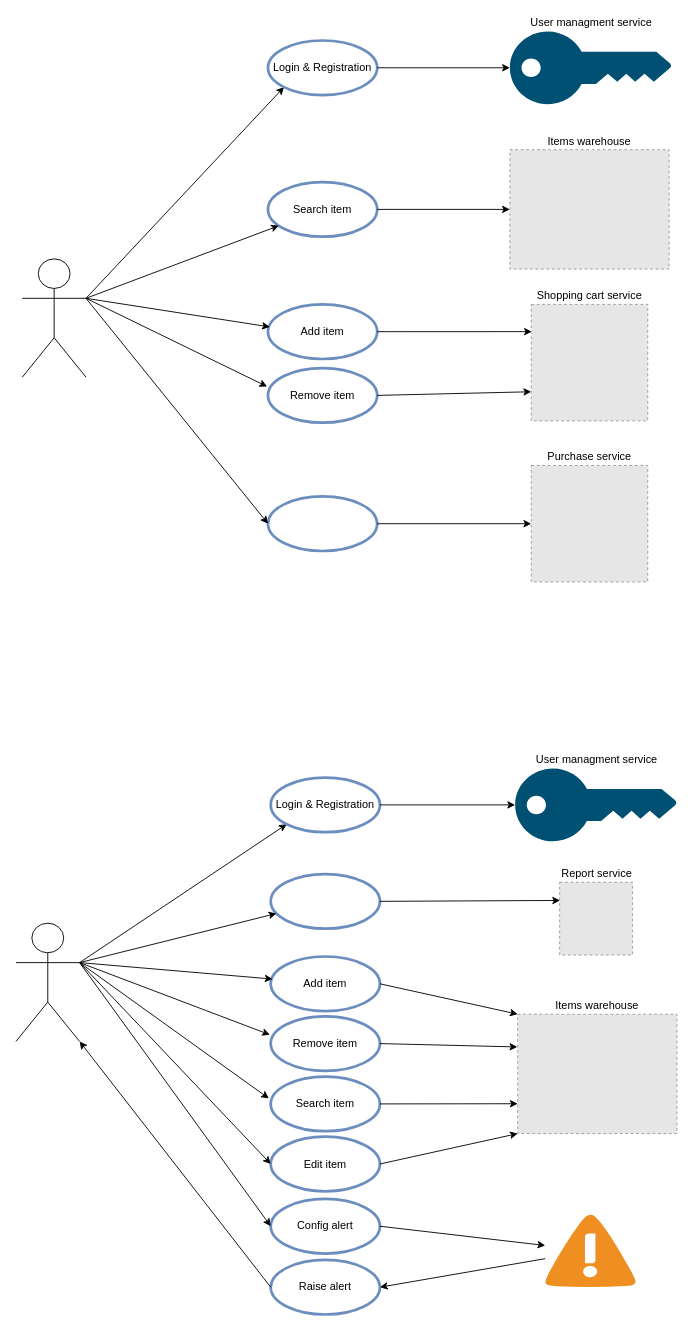
This 693x1331 diagram has some shape labels left out. Grey dashed boxes stand in for pictures. The centre of each missing label's shape, as x and y in pixels:
"Alert service" goes at [590,1250].
"Customer" goes at [53,317].
"Generating reports" goes at [325,901].
"Manager" goes at [47,981].
"Purchase" goes at [322,523].
